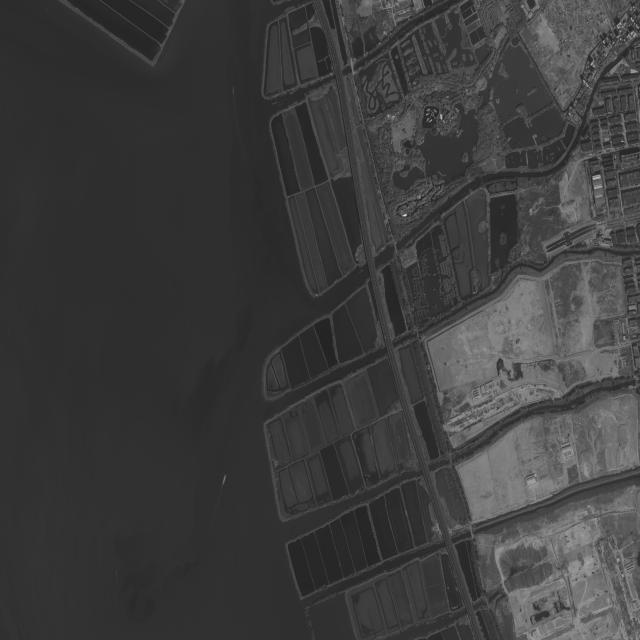ship: (222, 474, 227, 485), (232, 86, 234, 93), (272, 103, 274, 105), (116, 571, 117, 573)
